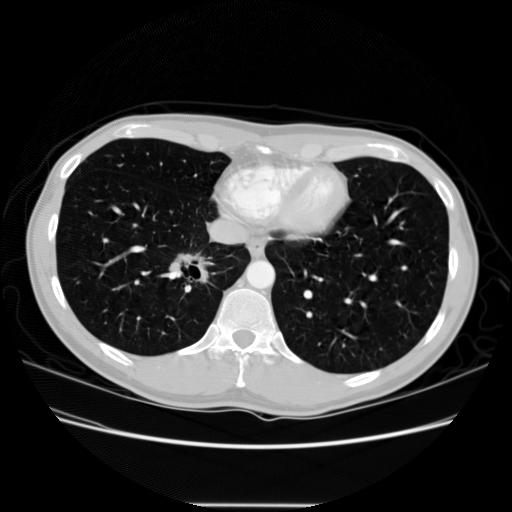nodule: (175, 250, 208, 283)
